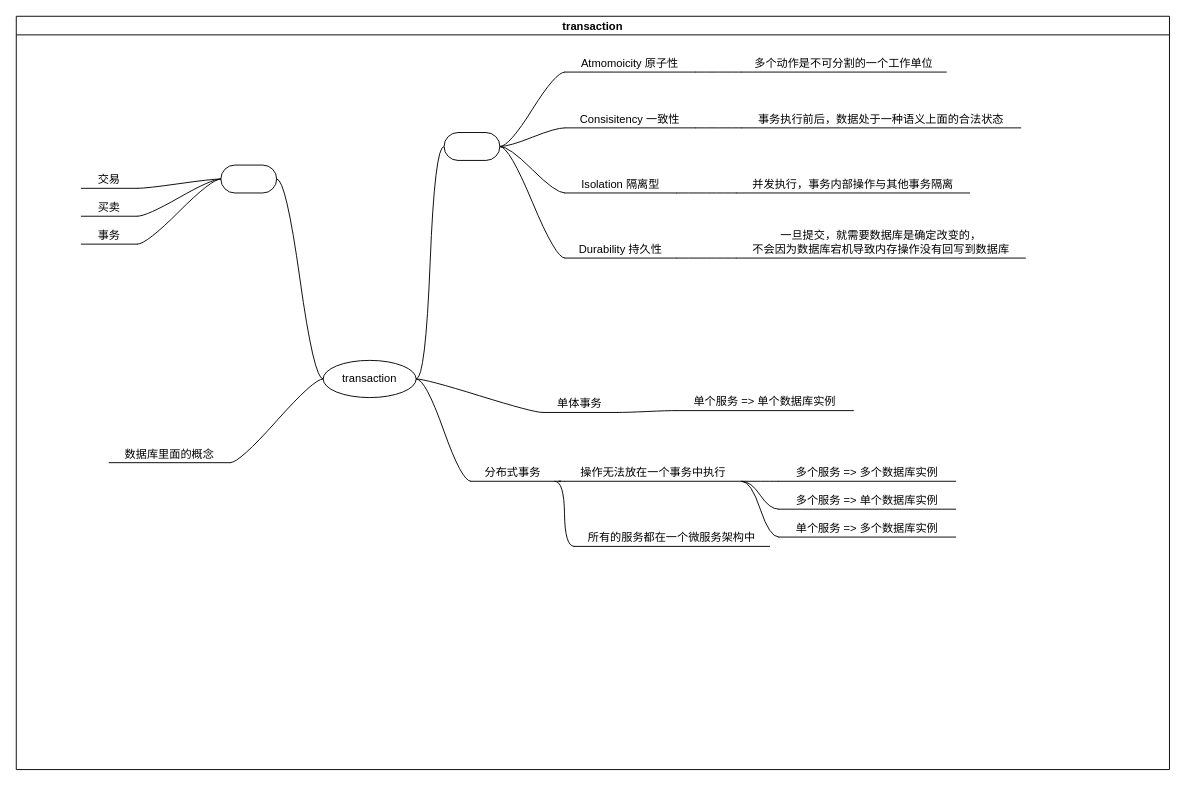
Some shapes in this 1186 by 786 pixel diagram are drawn without their labels. Each missing label, with the centre of its shape:
"特性" goes at [471,146].
"翻译" goes at [248,178].
